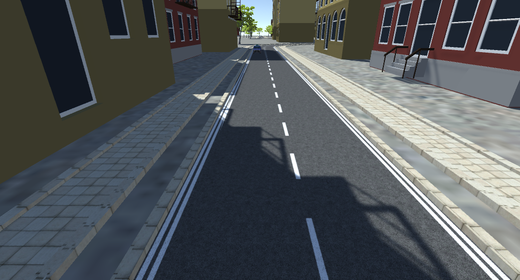centerstrip: (262, 64, 331, 280)
sidestripe: (310, 85, 510, 280), (129, 80, 245, 280)
